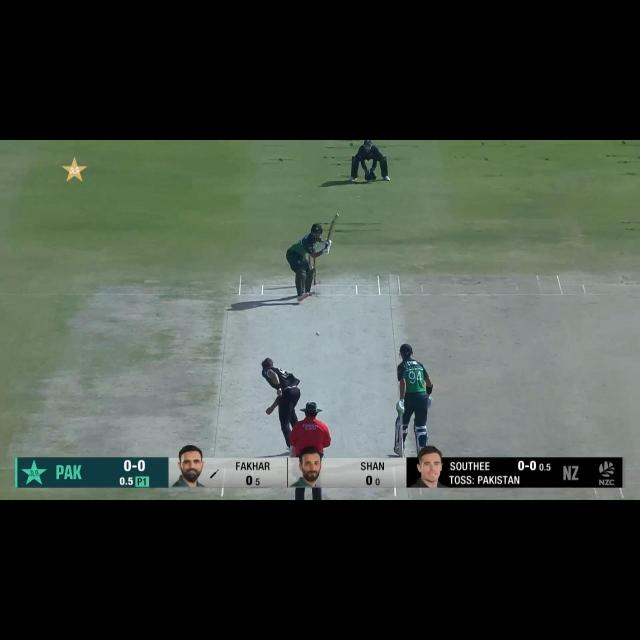bat: (326, 213, 339, 243), (399, 425, 406, 459)
toe: (400, 451, 405, 458), (334, 212, 339, 218)
